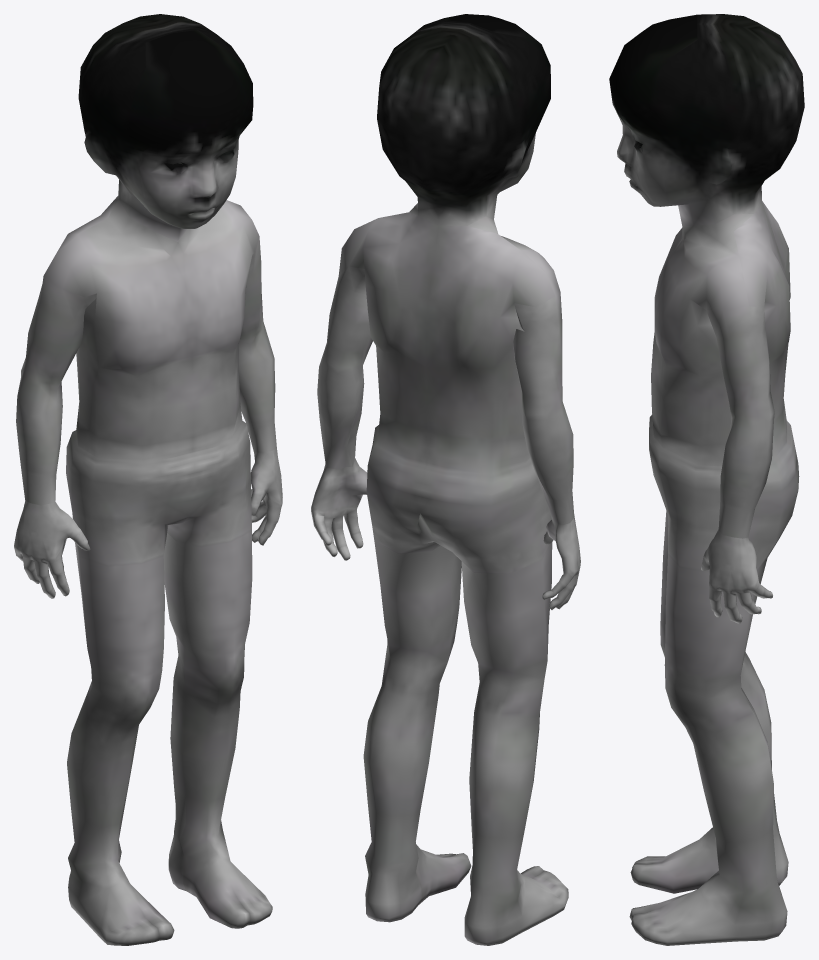
The model's file is sample_toshio.obj.
The picture shows the model from 3 angles, left to right: view 1: azimuth 30°, elevation 25°; view 2: azimuth 150°, elevation 25°; view 3: azimuth 270°, elevation 25°; orthographic projection.
Parts seen in each view (by area): view 1: polygon0_polygon0.001; view 2: polygon0_polygon0.001; view 3: polygon0_polygon0.001.
Part boxes in pixels (<box>): polygon0_polygon0.001: <box>14,14,282,945</box>; polygon0_polygon0.001: <box>311,14,580,945</box>; polygon0_polygon0.001: <box>609,14,804,945</box>.
Size of the model in its own units: 0.3611 by 1.16 by 0.2317.
